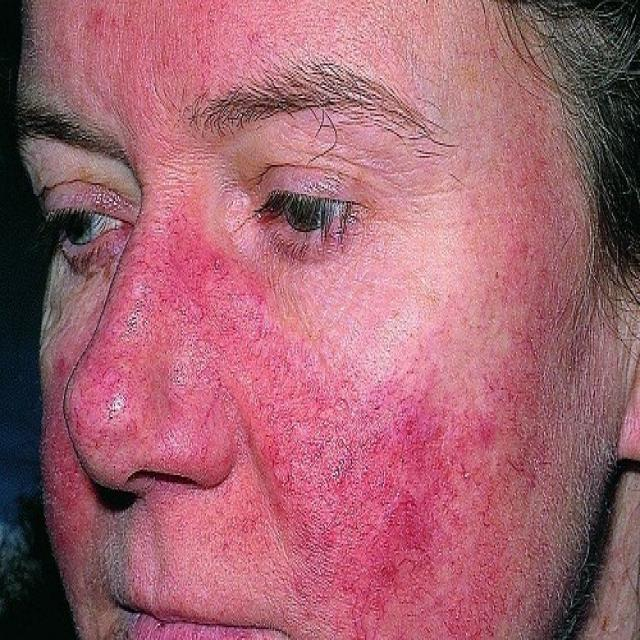Rosacea: (28, 0, 555, 640)
